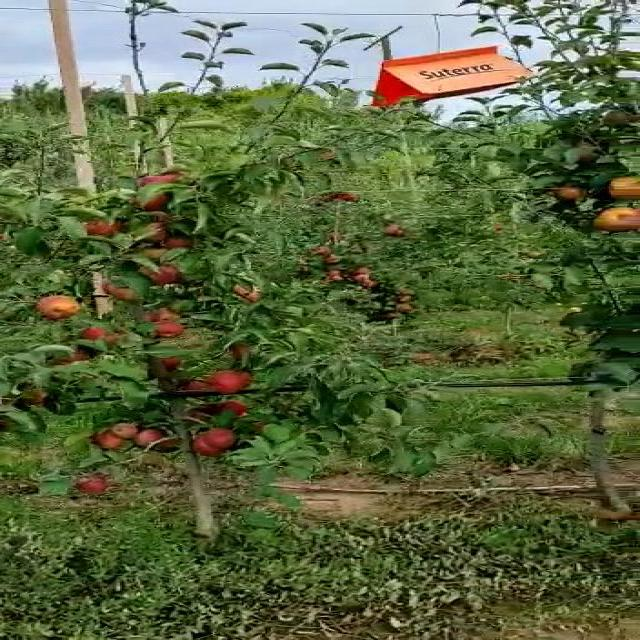100-_ripeness: (200, 362, 251, 395), (29, 291, 82, 320), (84, 210, 134, 240), (136, 258, 188, 284), (200, 423, 249, 450), (134, 190, 186, 214), (594, 175, 640, 200), (183, 434, 226, 458), (591, 209, 640, 230), (132, 423, 172, 448), (133, 220, 171, 245), (142, 319, 191, 338), (102, 419, 145, 439), (85, 430, 124, 450)
